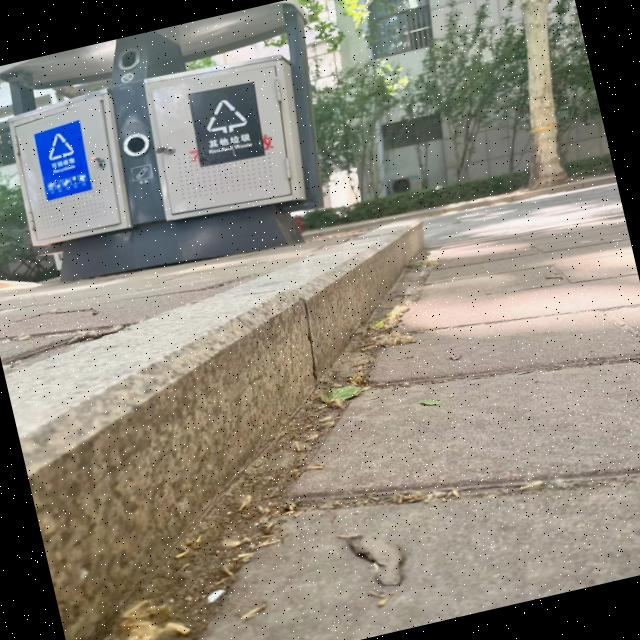curb: (1, 216, 488, 640)
